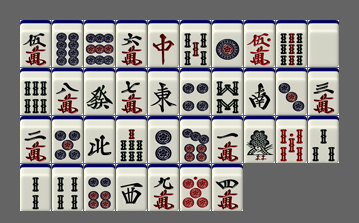0m: (244, 20, 275, 67)
0p: (180, 164, 211, 211)
0s: (276, 116, 307, 163)
1m: (212, 116, 243, 163)
1p: (212, 20, 243, 67)
1s: (244, 116, 275, 163)
1z: (148, 68, 179, 115)
2m: (20, 116, 51, 163)
2p: (148, 116, 179, 163)
2s: (20, 164, 51, 211)
2z: (244, 68, 275, 115)
3m: (308, 68, 339, 115)
3p: (276, 68, 307, 115)
3s: (308, 116, 339, 163)
3z: (116, 164, 147, 211)
4m: (212, 164, 243, 211)
4p: (180, 68, 211, 115)
4s: (52, 164, 83, 211)
4z: (84, 116, 115, 163)
5m: (20, 20, 51, 67)
5p: (52, 116, 83, 163)
5s: (180, 20, 211, 67)
5z: (308, 20, 339, 67)
6m: (116, 20, 147, 67)
6p: (84, 164, 115, 211)
6s: (20, 68, 51, 115)
6z: (84, 68, 115, 115)
7m: (116, 68, 147, 115)
7p: (180, 116, 211, 163)
7s: (116, 116, 147, 163)
7z: (148, 20, 179, 67)
8m: (52, 68, 83, 115)
8p: (52, 20, 83, 67)
8s: (212, 68, 243, 115)
9m: (148, 164, 179, 211)
9p: (84, 20, 115, 67)
9s: (276, 20, 307, 67)
